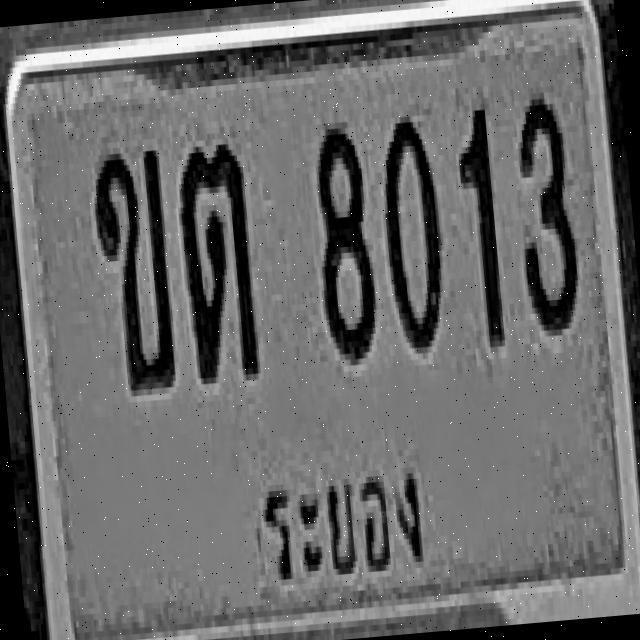0: (375, 108, 448, 349)
1: (452, 100, 506, 346)
11KhorKhai: (89, 144, 178, 392)
3: (508, 90, 582, 332)
30TorTao: (173, 140, 260, 382)
8: (308, 120, 378, 360)
Rayong: (247, 442, 442, 608)
